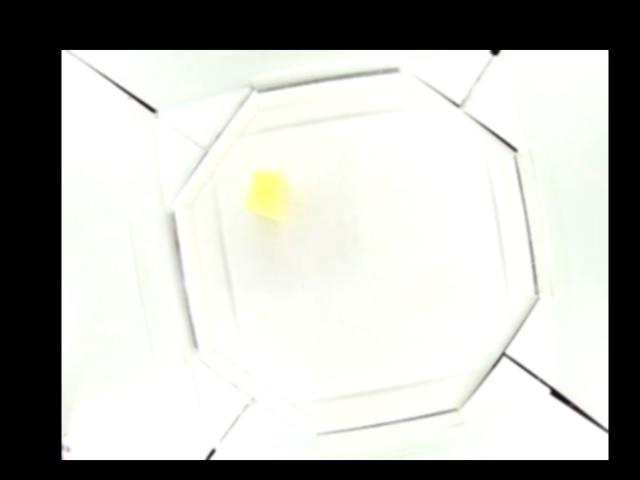Potato: (243, 168, 286, 221)
